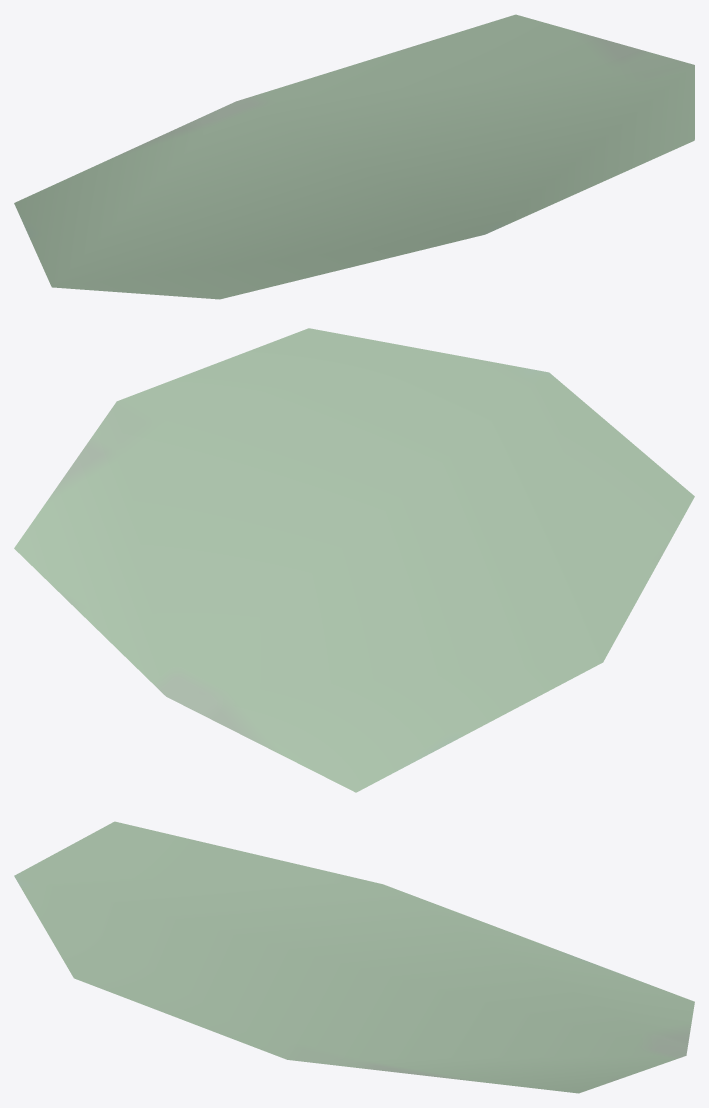
File: TROLLHOLE02_HOLECAP176.fbx
3 views of the same model, one above another, from view 1: azimuth 30°, elevation 25°; view 2: azimuth 150°, elevation 25°; view 3: azimuth 270°, elevation 25° (orthographic). The views are drawn at different scales.
Visible parts, largest first — view 1: TROLLHOLE02_HOLECAP176; view 2: TROLLHOLE02_HOLECAP176; view 3: TROLLHOLE02_HOLECAP176.
Part boxes in pixels (x1,y1,x2,y2): TROLLHOLE02_HOLECAP176: [14, 14, 694, 299]; TROLLHOLE02_HOLECAP176: [14, 328, 694, 792]; TROLLHOLE02_HOLECAP176: [14, 821, 694, 1093].
Size of the model in its own units: 22368 by 7284 by 22417.
Materials: 1 (1 with a texture image).
